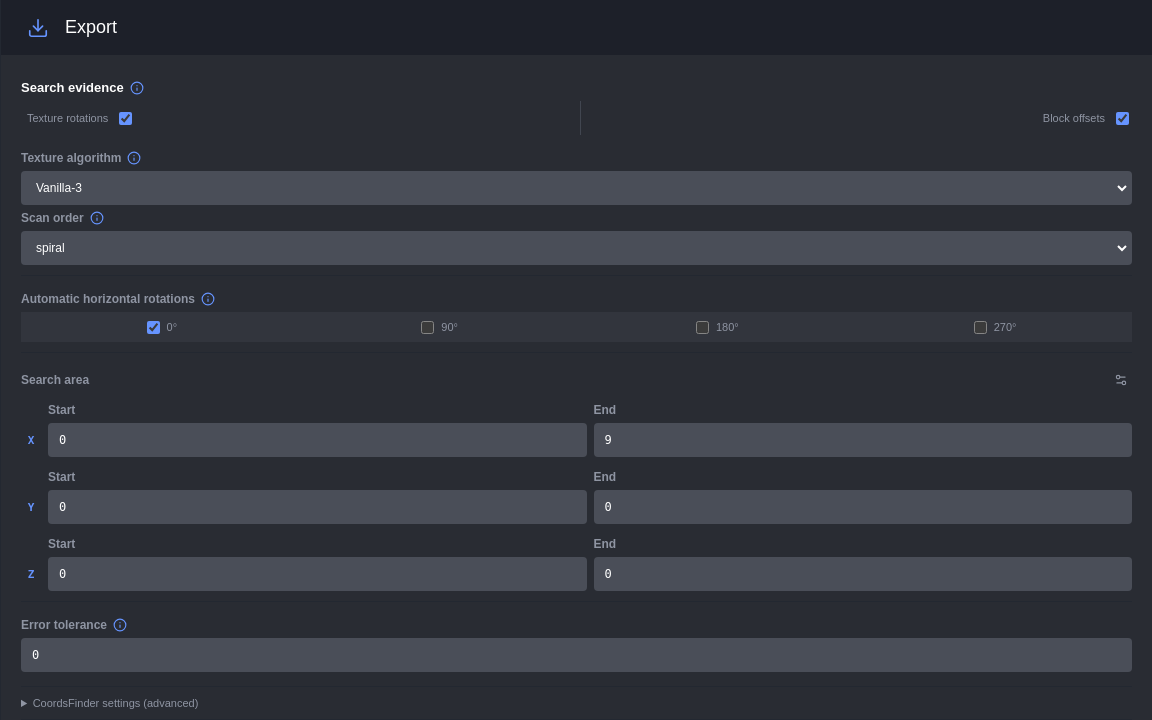
Test: Export / Run workspace › preserves disabled texture settings and Y bounds until textures are enabled again
Click the checkbox labelled "Texture rotations": {"x": 126, "y": 118} [119, 112, 132, 124]
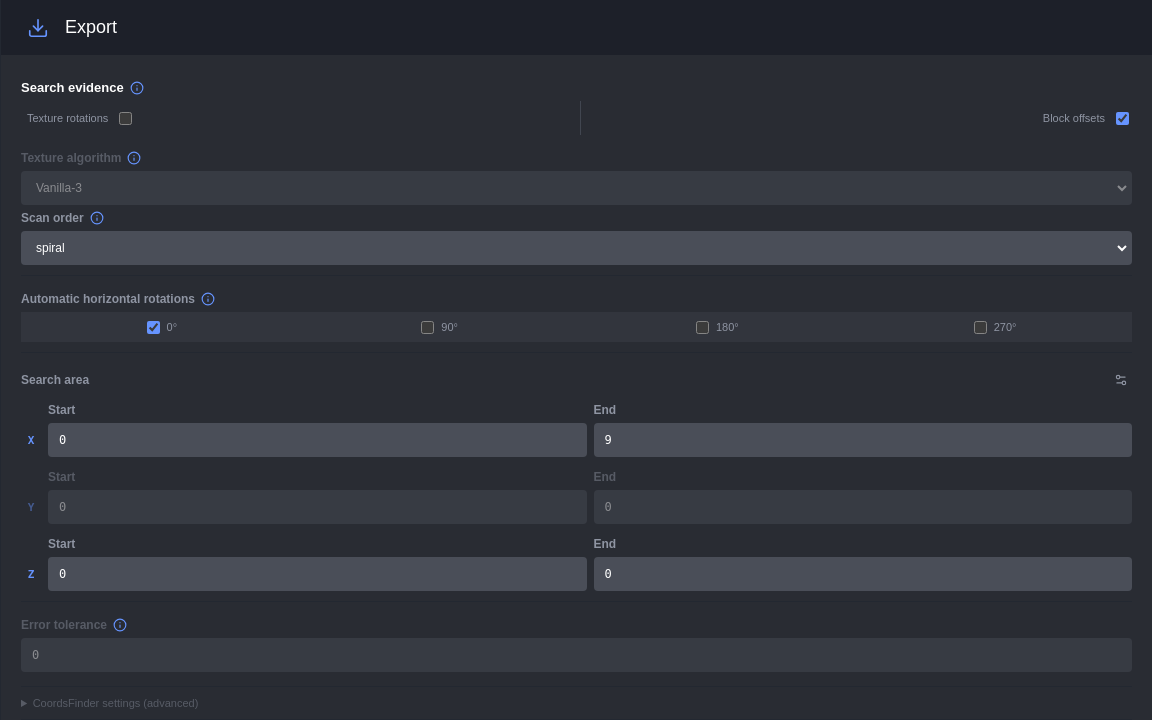
Result: the 2nd number field labelled "Start" is disabled at [48, 490, 586, 524]
Result: the 2nd number field labelled "End" is disabled at [594, 490, 1132, 524]
Result: the dropdown named "Texture algorithm" is disabled at [21, 171, 1132, 205]
Click the button named "Search area presets": {"x": 1121, "y": 380} [1110, 369, 1132, 391]
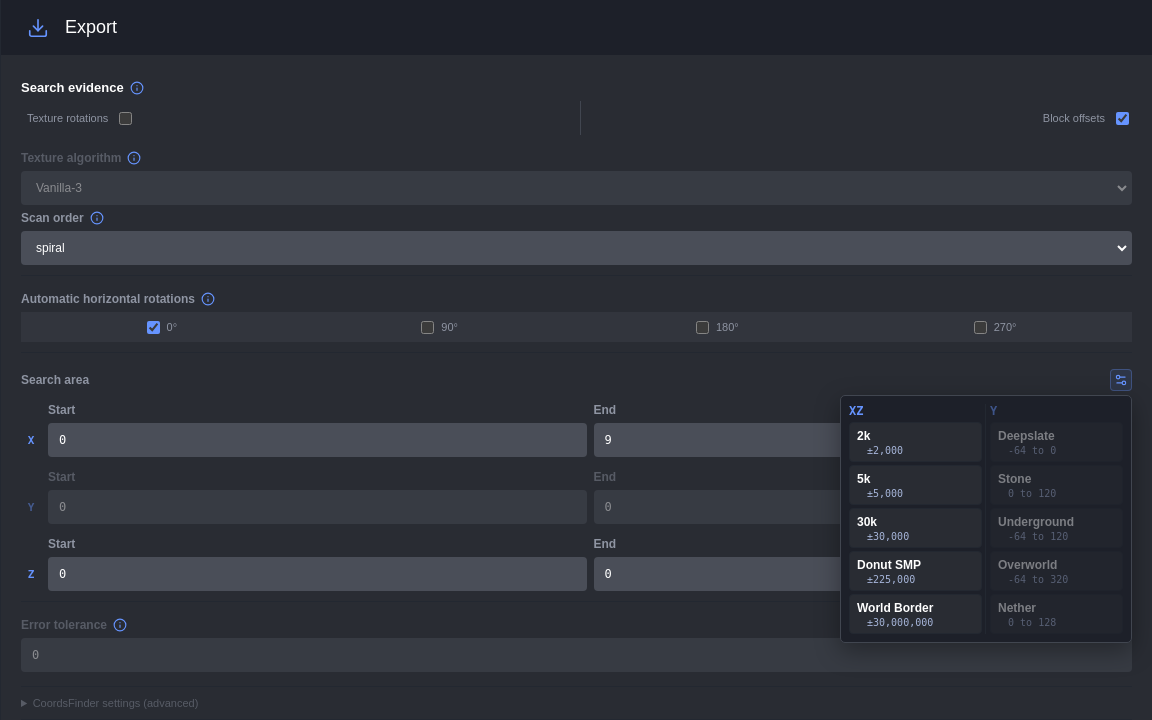
Result: the button "Overworld -64 to 320" is disabled at [990, 551, 1123, 591]
Result: the button "World Border ±30,000,000" is enabled at [849, 594, 982, 634]
Click the checkbox labelled "Texture rotations": {"x": 126, "y": 118} [119, 112, 132, 124]
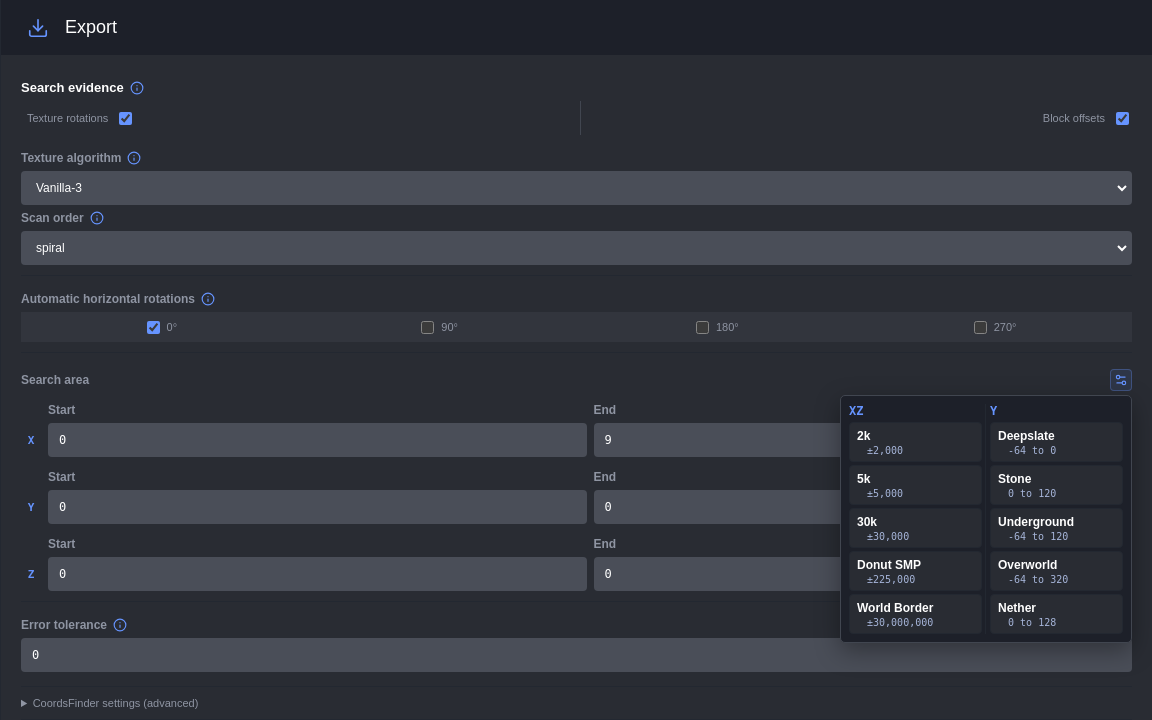
Result: the 2nd number field labelled "Start" is enabled at [48, 490, 586, 524]
Result: the number field labelled "Error tolerance" is enabled at [21, 638, 1132, 672]
